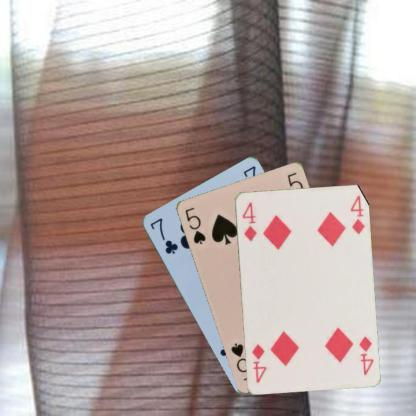4d: (239, 199, 258, 242), (356, 334, 375, 376)
5s: (182, 204, 207, 245)
7c: (147, 215, 179, 255)
